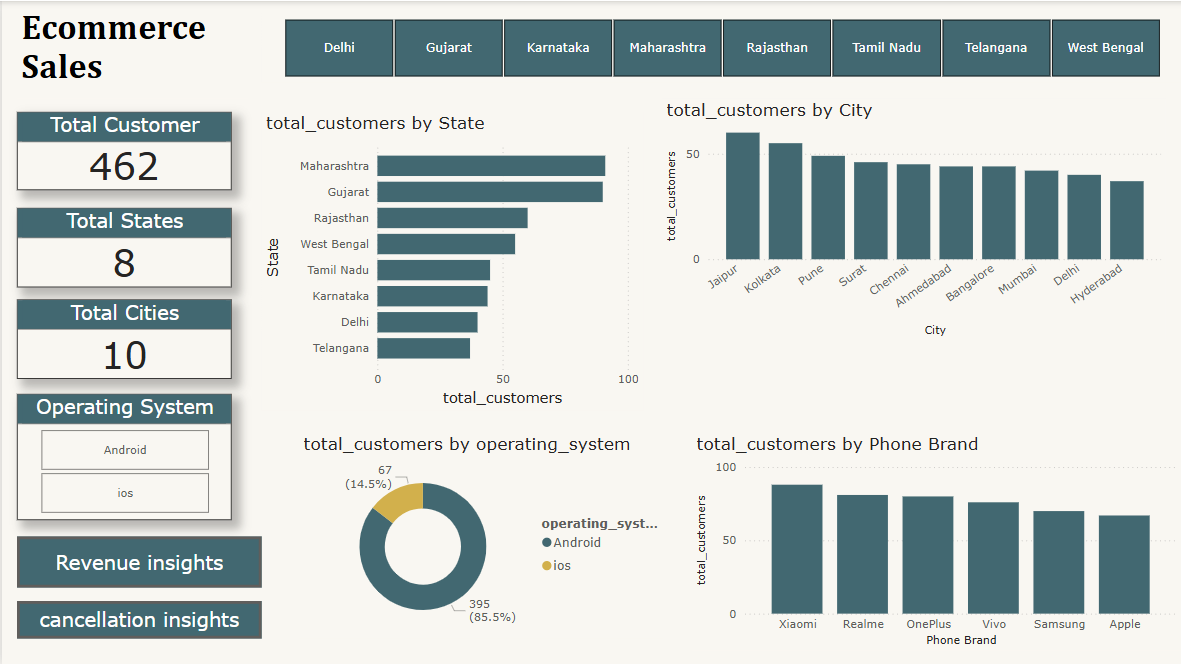

The page's visual inventory and layout, read from the dashboard file:
{"tool":"powerbi","page":{"name":"customer_insights","canvas":[1280,720],"ordinal":1},"visuals":[{"type":"slicer","fields":{"Values":["customers.State"]},"box":[281.6,13.2,997.8,75.6],"z":0},{"type":"card","title":"Total States","fields":{"Values":["Count(customers.State)"]},"box":[16.3,224.5,232.6,86.2],"z":1000},{"type":"card","title":"Total Cities","fields":{"Values":["Count(customers.City)"]},"box":[16.3,323.7,232.6,86.2],"z":2000},{"type":"slicer","title":"Operating System","fields":{"Values":["customers.operating_system"]},"box":[16.3,426.2,232.6,136.6],"z":3000},{"type":"card","title":"Total Customer","fields":{"Values":["Table.total_customers"]},"box":[16.3,120.4,232.6,84.6],"z":4000},{"type":"barChart","fields":{"Y":["Table.total_customers"],"Category":["customers.State"]},"box":[281.6,120.9,413.9,323.2],"z":5000},{"type":"columnChart","fields":{"Y":["Table.total_customers"],"Category":["customers.City"]},"box":[716.2,105.8,546.1,262.7],"z":6000},{"type":"donutChart","fields":{"Category":["customers.operating_system"],"Y":["Table.total_customers"]},"box":[321.3,468.7,395,223],"z":7000},{"type":"columnChart","fields":{"Category":["customers.Phone Brand"],"Y":["Table.total_customers"]},"box":[748.4,468.7,531,236.2],"z":8000},{"type":"actionButton","box":[16.3,580.7,265.1,55.3],"z":9000},{"type":"actionButton","box":[16.3,650.6,265.1,40.7],"z":10000},{"type":"textbox","box":[16.3,0,250.5,105.7],"z":11000}]}

Visuals, with their boxes in screenshot pixels (x1, y1, x2, y2), scaled from the page's 1280x720 canvas onto the 1181x664 screenshot:
slicer - customers.State: left=260, top=12, right=1180, bottom=82
"Total States" card: left=15, top=207, right=230, bottom=287
"Total Cities" card: left=15, top=299, right=230, bottom=378
"Operating System" slicer: left=15, top=393, right=230, bottom=519
"Total Customer" card: left=15, top=111, right=230, bottom=189
barChart - Table.total_customers x customers.State: left=260, top=111, right=642, bottom=410
columnChart - Table.total_customers x customers.City: left=661, top=98, right=1165, bottom=340
donutChart - customers.operating_system x Table.total_customers: left=296, top=432, right=661, bottom=638
columnChart - customers.Phone Brand x Table.total_customers: left=691, top=432, right=1180, bottom=650
actionButton: left=15, top=536, right=260, bottom=587
actionButton: left=15, top=600, right=260, bottom=638
textbox: left=15, top=0, right=246, bottom=97
